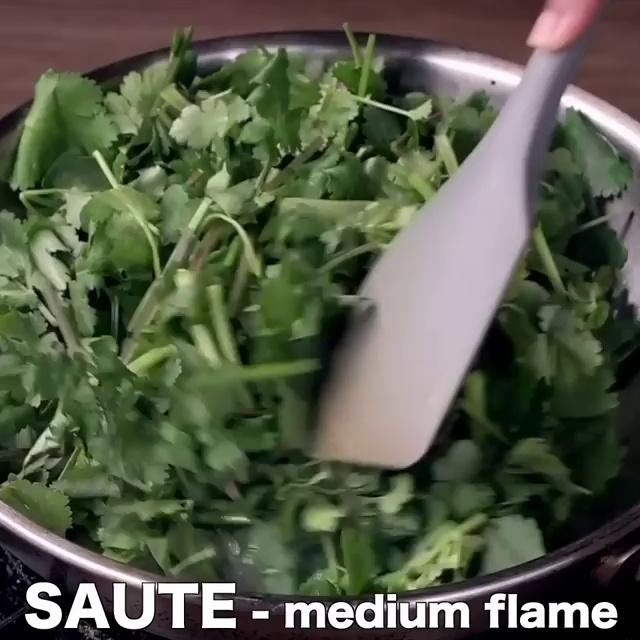cilantro: (18, 47, 314, 551)
